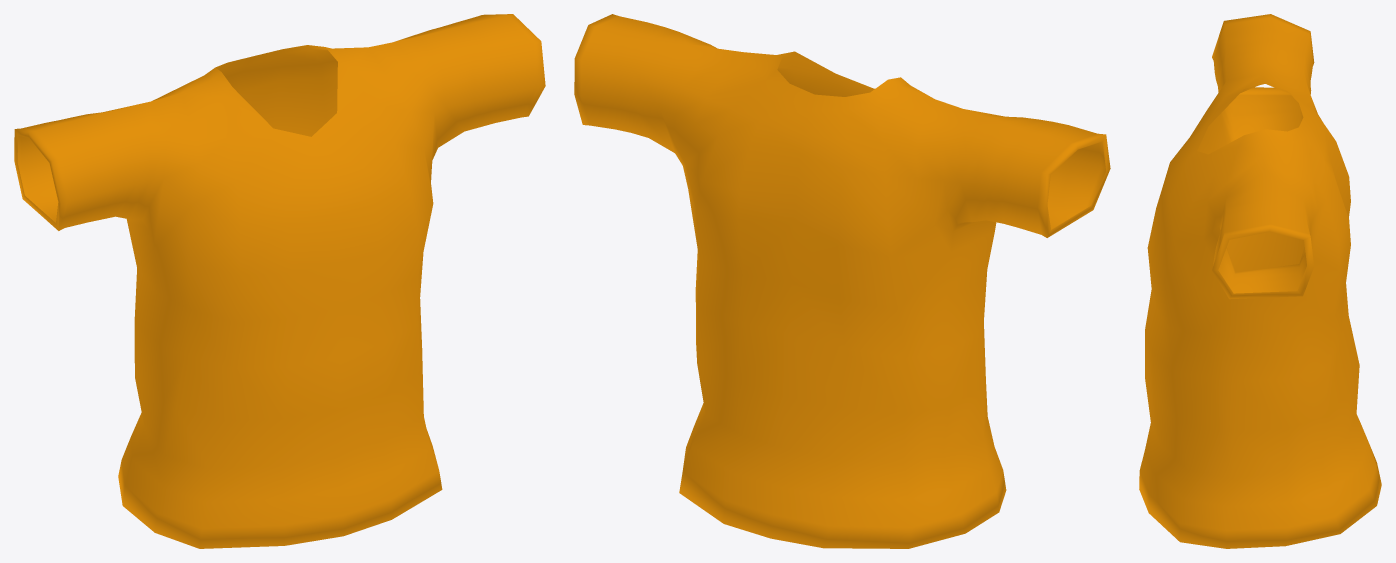
The model's file is tshirt_prop.glb.
3 renders of one model, left to right at view 1: azimuth 30°, elevation 25°; view 2: azimuth 150°, elevation 25°; view 3: azimuth 270°, elevation 25°, orthographic. The views are drawn at different scales.
Parts seen in each view (by area): view 1: Tshirt_Prop; view 2: Tshirt_Prop; view 3: Tshirt_Prop.
Boxes of the visible parts, bbox=[...] form: Tshirt_Prop: bbox=[14, 14, 545, 548]; Tshirt_Prop: bbox=[574, 14, 1110, 548]; Tshirt_Prop: bbox=[1139, 14, 1381, 548].
Size of the model in its own units: 2.6 by 2.16 by 1.24.
Materials: 1 (1 with a texture image).
